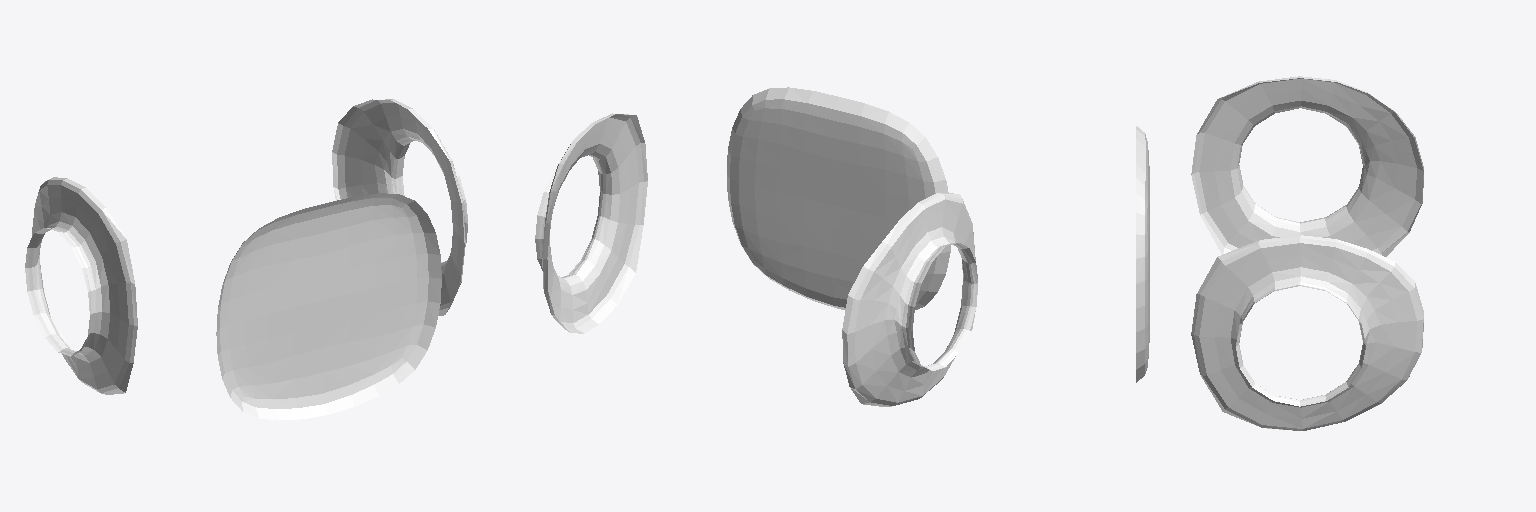
Rendered from head_highlight.obj.
The picture shows the model from 3 angles: view 1: azimuth 30°, elevation 25°; view 2: azimuth 150°, elevation 25°; view 3: azimuth 270°, elevation 25°; orthographic projection.
Parts seen in each view (by area): view 1: head_highlight.obj; view 2: head_highlight.obj; view 3: head_highlight.obj.
Boxes of the visible parts, box(x1,y1,x2,y2) form: head_highlight.obj: box(25, 99, 467, 420); head_highlight.obj: box(535, 87, 977, 406); head_highlight.obj: box(1136, 76, 1423, 430).
Bounding box in the file's own units: 0.3128 × 0.1669 × 0.2057.